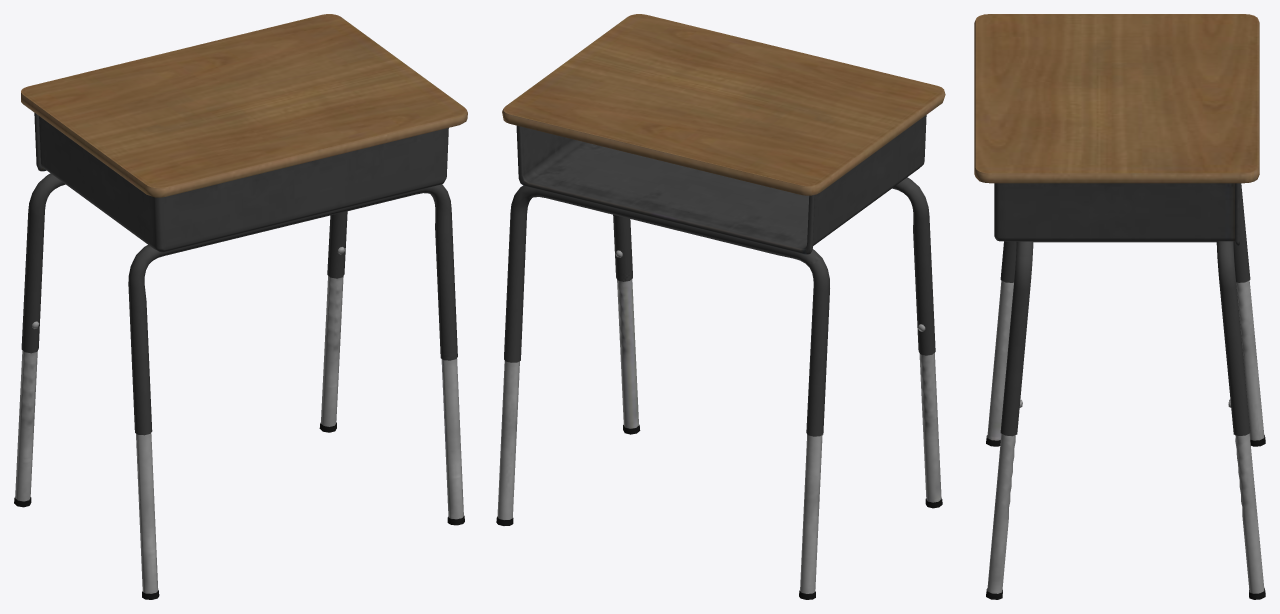
Rendered from student_desk.glb.
The picture shows the model from 3 angles, left to right: view 1: azimuth 30°, elevation 25°; view 2: azimuth 150°, elevation 25°; view 3: azimuth 270°, elevation 25°; orthographic projection. The views are drawn at different scales.
Size of the model in its own units: 0.7118 by 0.8818 by 0.546.
Materials: 1 (1 with a texture image).
